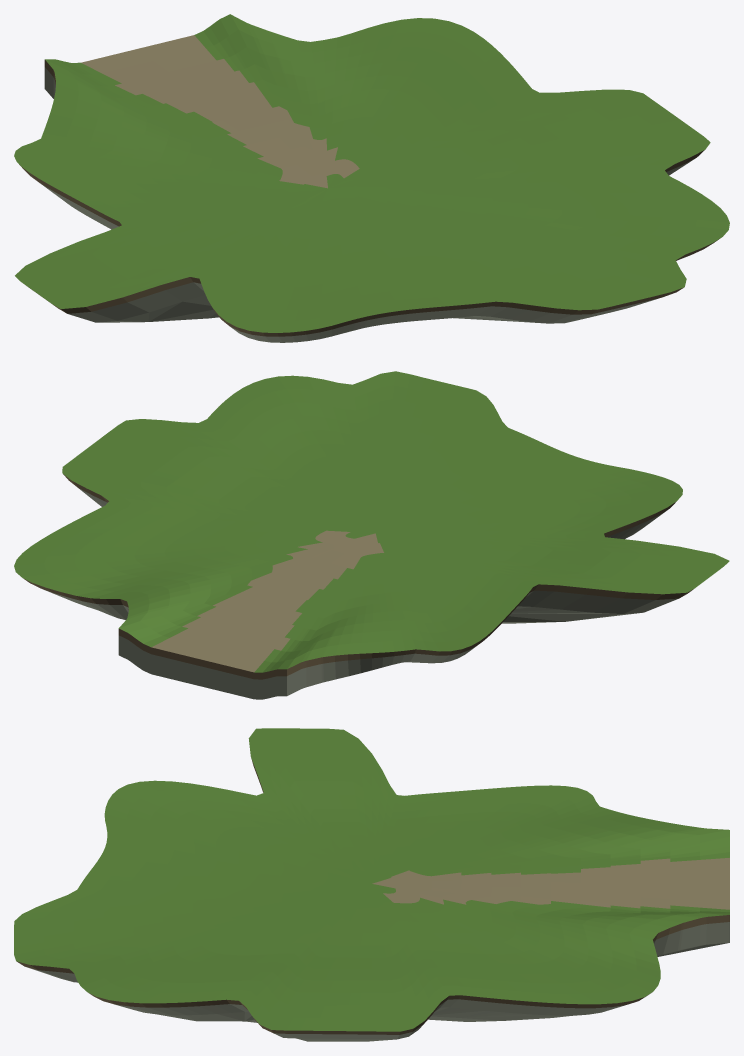
Rendered from side_wardens_clearing_structure.fbx.
3 views of the same model, one above another, from view 1: azimuth 30°, elevation 25°; view 2: azimuth 150°, elevation 25°; view 3: azimuth 270°, elevation 25° (orthographic). The views are drawn at different scales.
Parts seen in each view (by area): view 1: chunk_side_wardens_clearing; view 2: chunk_side_wardens_clearing; view 3: chunk_side_wardens_clearing.
Boxes of the visible parts, x1=… form: chunk_side_wardens_clearing: x1=14, y1=14, x2=729, y2=342; chunk_side_wardens_clearing: x1=14, y1=371, x2=729, y2=699; chunk_side_wardens_clearing: x1=14, y1=728, x2=729, y2=1041.
Bounding box in the file's own units: 256 × 38.5 × 256.
